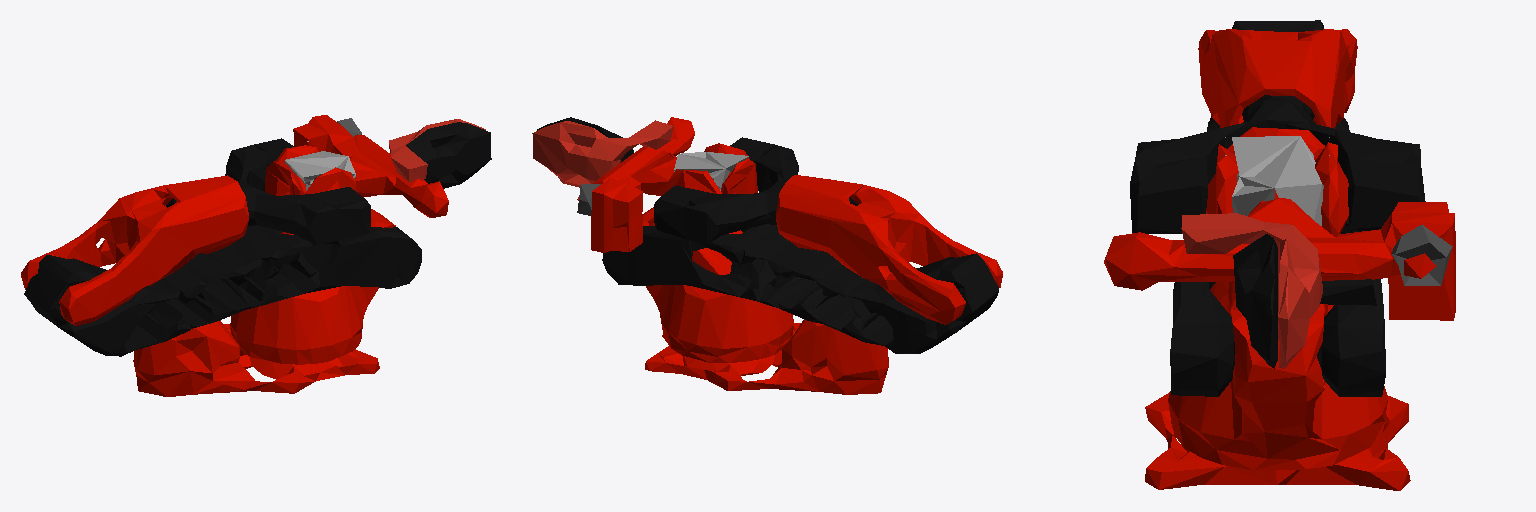
--- Render facts (derived) ---
3 views of the same robot in one strip: view 1: azimuth 30°, elevation 25°; view 2: azimuth 150°, elevation 25°; view 3: azimuth 270°, elevation 25° (orthographic).
Robot: arm — 14 links, 13 joints (6 revolute, 4 continuous, 2 prismatic, 1 fixed); root link world; default pose: all joints at 0.
Links seen in each view (by area): view 1: link2, link3, base_link, link1, link4, link8, link10, link9, link7, link5; view 2: link2, link3, base_link, link1, link8, link4, link9, link7, link6; view 3: link1, link8, link4, link2, link3, base_link, link9, link7, link10, link6, link12, link5.
Link boxes in pixels (x1,y1,x2,y2): link2: (24,225,421,356); link3: (21,175,248,325); base_link: (133,320,379,396); link1: (230,209,395,364); link4: (166,138,370,244); link8: (265,115,448,217); link10: (407,122,491,188); link9: (389,119,485,182); link7: (285,141,355,190); link5: (304,167,358,194); link2: (602,224,998,353); link3: (776,175,1002,324); base_link: (645,319,888,394); link1: (642,207,793,362); link8: (577,117,757,252); link4: (654,137,858,244); link9: (532,120,673,187); link7: (674,152,748,190); link6: (666,169,721,193); link1: (1168,281,1387,470); link8: (1104,127,1455,320); link4: (1130,95,1425,233); link2: (1170,20,1385,396); link3: (1198,29,1357,128); base_link: (1145,283,1410,490); link9: (1181,213,1322,368); link7: (1225,136,1329,225); link10: (1233,234,1376,368); link6: (1315,142,1348,236); link12: (1391,225,1452,285); link5: (1206,144,1238,213).
Size in the robot's own frame: 0.2972 by 0.1221 by 0.1235 metres.
Meshes: 13 distinct files referenced, 13 mesh visuals loaded (13 binary STL).

robot.urdf — arm:
<?xml version="1.0" ?>
<robot name="arm" >

    <material name="silver_default">
        <color rgba="0.700 0.700 0.700 1.000"/>
    </material>
    <material name="opaque210200">
        <color rgba="0.8235294117647058 0.0784313725490196 0.0 1.0"/>
    </material>
    <material name="opaque252525">
        <color rgba="0.09803921568627451 0.09803921568627451 0.09803921568627451 1.0"/>
    </material>
    <material name="opaque160160160">
        <color rgba="0.6274509803921569 0.6274509803921569 0.6274509803921569 1.0"/>
    </material>
    <material name="opaque1965339">
        <color rgba="0.7686274509803922 0.20784313725490197 0.15294117647058825 1.0"/>
    </material>
    <material name="opaque898989">
        <color rgba="0.34901960784313724 0.34901960784313724 0.34901960784313724 1.0"/>
    </material>

<link name="base_link">
  <inertial>
    <origin xyz="-0.035332029911054406 -0.0001151713095156251 0.01677047618232762" rpy="0 0 0"/>
    <mass value="1.0722770152321714"/>
    <inertia ixx="0.000458" iyy="0.001782" izz="0.001902" ixy="-4e-06" iyz="-2e-06" ixz="0.000177"/>
  </inertial>
  <visual>
    <origin xyz="0 0 0" rpy="0 0 0"/>
    <geometry>
      <mesh filename="package://arm_description/meshes/STL/VDB/base_link.stl" scale="0.001 0.001 0.001"/>
    </geometry>
    <material name="opaque210200"/>
  </visual>
  <collision>
    <origin xyz="0 0 0" rpy="0 0 0"/>
    <geometry>
      <mesh filename="package://arm_description/meshes/STL/VDB/base_link.stl" scale="0.001 0.001 0.001"/>
    </geometry>
  </collision>
</link>

<link name="link11">
  <inertial>
    <origin xyz="6.245004513516506e-16 4.29525355211143e-07 0.008489399860949962" rpy="0 0 0"/>
    <mass value="0.03750981375662675"/>
    <inertia ixx="2e-06" iyy="2e-06" izz="2e-06" ixy="-0.0" iyz="-0.0" ixz="0.0"/>
  </inertial>
  <visual>
    <origin xyz="0.069 -0.0 -0.006" rpy="0 0 0"/>
    <geometry>
      <mesh filename="package://arm_description/meshes/STL/VDB/link11.stl" scale="0.001 0.001 0.001"/>
    </geometry>
    <material name="opaque160160160"/>
  </visual>
  <collision>
    <origin xyz="0.069 -0.0 -0.006" rpy="0 0 0"/>
    <geometry>
      <mesh filename="package://arm_description/meshes/STL/VDB/link11.stl" scale="0.001 0.001 0.001"/>
    </geometry>
  </collision>
</link>

<link name="link1">
  <inertial>
    <origin xyz="0.011206111393191323 -0.00011244258381883525 0.0356863108174146" rpy="0 0 0"/>
    <mass value="1.2482750398529938"/>
    <inertia ixx="0.000783" iyy="0.001096" izz="0.000998" ixy="3e-06" iyz="3e-06" ixz="-0.000187"/>
  </inertial>
  <visual>
    <origin xyz="0.0 0.0 -0.0105" rpy="0 0 0"/>
    <geometry>
      <mesh filename="package://arm_description/meshes/STL/VDB/link1.stl" scale="0.001 0.001 0.001"/>
    </geometry>
    <material name="opaque210200"/>
  </visual>
  <collision>
    <origin xyz="0.0 0.0 -0.0105" rpy="0 0 0"/>
    <geometry>
      <mesh filename="package://arm_description/meshes/STL/VDB/link1.stl" scale="0.001 0.001 0.001"/>
    </geometry>
  </collision>
</link>

<link name="link2">
  <inertial>
    <origin xyz="-0.10533457699711699 0.01592298495871186 0.0025359722344356073" rpy="0 0 0"/>
    <mass value="1.5172780004261823"/>
    <inertia ixx="0.000757" iyy="0.00883" izz="0.009159" ixy="6.7e-05" iyz="2e-06" ixz="-4e-05"/>
  </inertial>
  <visual>
    <origin xyz="-0.045 0.017 -0.062" rpy="0 0 0"/>
    <geometry>
      <mesh filename="package://arm_description/meshes/STL/VDB/link2.stl" scale="0.001 0.001 0.001"/>
    </geometry>
    <material name="opaque252525"/>
  </visual>
  <collision>
    <origin xyz="-0.045 0.017 -0.062" rpy="0 0 0"/>
    <geometry>
      <mesh filename="package://arm_description/meshes/STL/VDB/link2.stl" scale="0.001 0.001 0.001"/>
    </geometry>
  </collision>
</link>

<link name="link3">
  <inertial>
    <origin xyz="0.05688940039684258 0.016684826028364724 0.017232609352887562" rpy="0 0 0"/>
    <mass value="0.6382129609796608"/>
    <inertia ixx="0.000266" iyy="0.000647" izz="0.000695" ixy="-6e-06" iyz="-2e-06" ixz="-0.000136"/>
  </inertial>
  <visual>
    <origin xyz="0.155 0.017 -0.077" rpy="0 0 0"/>
    <geometry>
      <mesh filename="package://arm_description/meshes/STL/VDB/link3.stl" scale="0.001 0.001 0.001"/>
    </geometry>
    <material name="opaque210200"/>
  </visual>
  <collision>
    <origin xyz="0.155 0.017 -0.077" rpy="0 0 0"/>
    <geometry>
      <mesh filename="package://arm_description/meshes/STL/VDB/link3.stl" scale="0.001 0.001 0.001"/>
    </geometry>
  </collision>
</link>

<link name="link4">
  <inertial>
    <origin xyz="0.02539855845508478 -2.4088588287602283e-07 2.4485807587071307e-07" rpy="0 0 0"/>
    <mass value="0.556203439123278"/>
    <inertia ixx="0.000498" iyy="0.000461" izz="0.00092" ixy="-0.0" iyz="0.0" ixz="-0.0"/>
  </inertial>
  <visual>
    <origin xyz="0.0461 0.0 -0.103" rpy="0 0 0"/>
    <geometry>
      <mesh filename="package://arm_description/meshes/STL/VDB/link4.stl" scale="0.001 0.001 0.001"/>
    </geometry>
    <material name="opaque252525"/>
  </visual>
  <collision>
    <origin xyz="0.0461 0.0 -0.103" rpy="0 0 0"/>
    <geometry>
      <mesh filename="package://arm_description/meshes/STL/VDB/link4.stl" scale="0.001 0.001 0.001"/>
    </geometry>
  </collision>
</link>

<link name="link5">
  <inertial>
    <origin xyz="2.753202211509126e-07 0.005524662132598862 -1.7395752630045003e-08" rpy="0 0 0"/>
    <mass value="0.048347571885136914"/>
    <inertia ixx="4e-06" iyy="8e-06" izz="4e-06" ixy="0.0" iyz="0.0" ixz="-0.0"/>
  </inertial>
  <visual>
    <origin xyz="-0.0108 0.024 -0.103" rpy="0 0 0"/>
    <geometry>
      <mesh filename="package://arm_description/meshes/STL/VDB/link5.stl" scale="0.001 0.001 0.001"/>
    </geometry>
    <material name="opaque210200"/>
  </visual>
  <collision>
    <origin xyz="-0.0108 0.024 -0.103" rpy="0 0 0"/>
    <geometry>
      <mesh filename="package://arm_description/meshes/STL/VDB/link5.stl" scale="0.001 0.001 0.001"/>
    </geometry>
  </collision>
</link>

<link name="link6">
  <inertial>
    <origin xyz="2.7532022249358856e-07 -0.0055246621326002915 -1.7395751616966493e-08" rpy="0 0 0"/>
    <mass value="0.04834757188513691"/>
    <inertia ixx="4e-06" iyy="8e-06" izz="4e-06" ixy="-0.0" iyz="-0.0" ixz="-0.0"/>
  </inertial>
  <visual>
    <origin xyz="-0.0108 -0.024 -0.103" rpy="0 0 0"/>
    <geometry>
      <mesh filename="package://arm_description/meshes/STL/VDB/link6.stl" scale="0.001 0.001 0.001"/>
    </geometry>
    <material name="opaque210200"/>
  </visual>
  <collision>
    <origin xyz="-0.0108 -0.024 -0.103" rpy="0 0 0"/>
    <geometry>
      <mesh filename="package://arm_description/meshes/STL/VDB/link6.stl" scale="0.001 0.001 0.001"/>
    </geometry>
  </collision>
</link>

<link name="link7">
  <inertial>
    <origin xyz="0.0028448480020698153 -0.02399986356623937 -2.0958257078984577e-06" rpy="0 0 0"/>
    <mass value="0.15678652750508332"/>
    <inertia ixx="3.8e-05" iyy="3.9e-05" izz="3.5e-05" ixy="-0.0" iyz="0.0" ixz="-0.0"/>
  </inertial>
  <visual>
    <origin xyz="-0.0108 -0.024 -0.103" rpy="0 0 0"/>
    <geometry>
      <mesh filename="package://arm_description/meshes/STL/VDB/link7.stl" scale="0.001 0.001 0.001"/>
    </geometry>
    <material name="opaque160160160"/>
  </visual>
  <collision>
    <origin xyz="-0.0108 -0.024 -0.103" rpy="0 0 0"/>
    <geometry>
      <mesh filename="package://arm_description/meshes/STL/VDB/link7.stl" scale="0.001 0.001 0.001"/>
    </geometry>
  </collision>
</link>

<link name="link8">
  <inertial>
    <origin xyz="0.006337791282976783 0.014437861844293989 -0.002533555574269944" rpy="0 0 0"/>
    <mass value="0.41604327739339353"/>
    <inertia ixx="0.000417" iyy="0.000227" izz="0.000586" ixy="-1.7e-05" iyz="3.7e-05" ixz="6e-06"/>
  </inertial>
  <visual>
    <origin xyz="-0.0328 0.0 -0.103" rpy="0 0 0"/>
    <geometry>
      <mesh filename="package://arm_description/meshes/STL/VDB/link8.stl" scale="0.001 0.001 0.001"/>
    </geometry>
    <material name="opaque210200"/>
  </visual>
  <collision>
    <origin xyz="-0.0328 0.0 -0.103" rpy="0 0 0"/>
    <geometry>
      <mesh filename="package://arm_description/meshes/STL/VDB/link8.stl" scale="0.001 0.001 0.001"/>
    </geometry>
  </collision>
</link>

<link name="link12">
  <inertial>
    <origin xyz="-0.0070040483790297925 -8.487575241938883e-08 -8.071878474513738e-07" rpy="0 0 0"/>
    <mass value="0.019850481866978086"/>
    <inertia ixx="1e-06" iyy="1e-06" izz="1e-06" ixy="-0.0" iyz="0.0" ixz="-0.0"/>
  </inertial>
  <visual>
    <origin xyz="-0.0664 -0.05 -0.103" rpy="0 0 0"/>
    <geometry>
      <mesh filename="package://arm_description/meshes/STL/VDB/link12.stl" scale="0.001 0.001 0.001"/>
    </geometry>
    <material name="opaque898989"/>
  </visual>
  <collision>
    <origin xyz="-0.0664 -0.05 -0.103" rpy="0 0 0"/>
    <geometry>
      <mesh filename="package://arm_description/meshes/STL/VDB/link12.stl" scale="0.001 0.001 0.001"/>
    </geometry>
  </collision>
</link>

<link name="link10">
  <inertial>
    <origin xyz="0.02573313617415028 -0.03390025109466069 0.0052187897794312155" rpy="0 0 0"/>
    <mass value="0.1633987484930479"/>
    <inertia ixx="3.2e-05" iyy="7.7e-05" izz="7.6e-05" ixy="1.2e-05" iyz="5e-06" ixz="-8e-06"/>
  </inertial>
  <visual>
    <origin xyz="-0.0641 -0.0325 -0.0959" rpy="0 0 0"/>
    <geometry>
      <mesh filename="package://arm_description/meshes/STL/VDB/link10.stl" scale="0.001 0.001 0.001"/>
    </geometry>
    <material name="opaque252525"/>
  </visual>
  <collision>
    <origin xyz="-0.0641 -0.0325 -0.0959" rpy="0 0 0"/>
    <geometry>
      <mesh filename="package://arm_description/meshes/STL/VDB/link10.stl" scale="0.001 0.001 0.001"/>
    </geometry>
  </collision>
</link>

<link name="link9">
  <inertial>
    <origin xyz="0.0257331361554268 0.033900251075823624 -0.005218789736564436" rpy="0 0 0"/>
    <mass value="0.16339874859628656"/>
    <inertia ixx="3.2e-05" iyy="7.7e-05" izz="7.6e-05" ixy="-1.2e-05" iyz="5e-06" ixz="8e-06"/>
  </inertial>
  <visual>
    <origin xyz="-0.0641 0.0325 -0.1101" rpy="0 0 0"/>
    <geometry>
      <mesh filename="package://arm_description/meshes/STL/VDB/link9.stl" scale="0.001 0.001 0.001"/>
    </geometry>
    <material name="opaque1965339"/>
  </visual>
  <collision>
    <origin xyz="-0.0641 0.0325 -0.1101" rpy="0 0 0"/>
    <geometry>
      <mesh filename="package://arm_description/meshes/STL/VDB/link9.stl" scale="0.001 0.001 0.001"/>
    </geometry>
  </collision>
</link>

<!-- Attach base_link to world -->
<link name="world"/>

<joint name="world_to_base_link" type="fixed">
     <parent link="world"/>
     <child link="base_link"/>
</joint>

<joint name="base_link-link11" type="continuous">
  <origin xyz="-0.069 0.0 0.006" rpy="0 0 0"/>
  <parent link="base_link"/>
  <child link="link11"/>
  <axis xyz="0.0 0.0 1.0"/>
  <dynamics damping="0.5" friction="1.0"/>
</joint>

<joint name="base_link-link1" type="revolute">
  <origin xyz="0.0 0.0 0.0105" rpy="0 0 0"/>
  <parent link="base_link"/>
  <child link="link1"/>
  <axis xyz="0.0 0.0 1.0"/>
  <limit upper="3.141593" lower="-3.141593" effort="100" velocity="100"/>
  <dynamics damping="0.5" friction="1.0"/>

</joint>
  <!--
    EXAMPLE FROM https://github.com/PickNikRobotics/stretch_ros/blob/stretch_xacro_ign/stretch_description/urdf/stretch_main.xacro
    <limit effort="100" lower="-1.75" upper="4.0" velocity="1.0"/>
    <dynamics damping="${joint_damping}" friction="${joint_friction}" spring_reference="${joint_spring_reference}" spring_stiffness="{joint_spring_stiffness}"/>
  -->


<joint name="link1-link2" type="revolute">
  <origin xyz="0.045 -0.017 0.0515" rpy="0 0 0"/>
  <parent link="link1"/>
  <child link="link2"/>
  <axis xyz="0.0 1.0 0.0"/>
  <limit upper="4.101524" lower="-4.101524" effort="100" velocity="100"/>
<!--  <limit upper="4.101524" lower="0.0" effort="100" velocity="100"/>-->
  <dynamics damping="0.5" friction="1.0"/>
</joint>

<joint name="link2-link3" type="revolute">
  <origin xyz="-0.2 0.0 0.015" rpy="0 0 0"/>
  <parent link="link2"/>
  <child link="link3"/>
  <axis xyz="0.0 1.0 0.0"/>
  <limit upper="2.792527" lower="-2.792527" effort="100" velocity="100"/>
<!--  <limit upper="0.0" lower="-2.792527" effort="100" velocity="100"/>-->
  <dynamics damping="0.5" friction="1.0"/>
</joint>

<joint name="link3-link4" type="revolute">
  <origin xyz="0.1089 0.017 0.026" rpy="0 0 0"/>
  <parent link="link3"/>
  <child link="link4"/>
  <axis xyz="1.0 0.0 0.0"/>
  <limit upper="3.141593" lower="-3.141593" effort="100" velocity="100"/>
  <dynamics damping="2.5" friction="5.0"/>
</joint>

<joint name="link4-link5" type="continuous">
  <origin xyz="0.0569 -0.024 0.0" rpy="0 0 0"/>
  <parent link="link4"/>
  <child link="link5"/>
  <axis xyz="0.0 1.0 0.0"/>
  <dynamics damping="5.0" friction="10.0"/>
</joint>

<joint name="link4-link6" type="continuous">
  <origin xyz="0.0569 0.024 0.0" rpy="0 0 0"/>
  <parent link="link4"/>
  <child link="link6"/>
  <axis xyz="0.0 1.0 0.0"/>
  <dynamics damping="5.0" friction="10.0"/>
</joint>

<joint name="link4-link7" type="revolute">
  <origin xyz="0.0569 0.024 0.0" rpy="0 0 0"/>
  <parent link="link4"/>
  <child link="link7"/>
  <axis xyz="0.0 1.0 0.0"/>
  <limit upper="1.745329" lower="-1.745329" effort="100" velocity="100"/>
  <dynamics damping="5.0" friction="10.0"/>
</joint>

<joint name="link7-link8" type="revolute">
  <origin xyz="0.022 -0.024 0.0" rpy="0 0 0"/>
  <parent link="link7"/>
  <child link="link8"/>
  <axis xyz="1.0 0.0 0.0"/>
  <limit upper="3.141593" lower="-3.141593" effort="100" velocity="100"/>
  <dynamics damping="5.0" friction="10.0"/>
</joint>

<joint name="link8-link12" type="continuous">
  <origin xyz="0.0336 0.05 0.0" rpy="0 0 0"/>
  <parent link="link8"/>
  <child link="link12"/>
  <axis xyz="1.0 0.0 0.0"/>
  <dynamics damping="1.0" friction="2.0"/>
</joint>

<joint name="link8-link10" type="prismatic">
  <origin xyz="0.0313 0.0325 -0.0071" rpy="0 0 0"/>
  <parent link="link8"/>
  <child link="link10"/>
  <axis xyz="0.0 1.0 0.0"/>
  <limit upper="0.0" lower="-0.051" effort="100" velocity="100"/>
  <dynamics damping="1.0" friction="2.0"/>
</joint>

<joint name="link8-link9" type="prismatic">
  <origin xyz="0.0313 -0.0325 0.0071" rpy="0 0 0"/>
  <parent link="link8"/>
  <child link="link9"/>
  <axis xyz="0.0 1.0 0.0"/>
  <limit upper="0.051" lower="0.0" effort="100" velocity="100"/>
<!--  <dynamics damping="1.0" friction="2.0"/>-->
</joint>



  <ros2_control name="arm_controller" type="system">
  <hardware>
    <plugin>ign_ros2_control/IgnitionSystem</plugin>
  </hardware>

<joint name="link1-link2">
  <command_interface name="position"/>
    <state_interface name="position">
    <param name="initial_value">0</param>
    </state_interface>
    <state_interface name="velocity"/>
</joint>

<joint name="base_link-link1">
  <command_interface name="position"/>
    <state_interface name="position">
    <param name="initial_value">0</param>
    </state_interface>
    <state_interface name="velocity"/>
</joint>

<joint name="link2-link3">
  <command_interface name="position"/>
    <state_interface name="position">
    <param name="initial_value">0</param>
    </state_interface>
    <state_interface name="velocity"/>
</joint>
<joint name="link8-link9">
    <param name="initial_position">0.0</param>
    <command_interface name="position" />
    <state_interface name="position"/>
    <state_interface name="velocity"/>
</joint>
<joint name="link8-link10">
    <param name="mimic">link8-link9</param>
    <param name="multiplier">-1</param>
    <command_interface name="position" />
    <state_interface name="position"/>
    <state_interface name="velocity"/>
</joint>
</ros2_control>

  <gazebo>
    <plugin filename="libignition-gazebo-joint-state-publisher-system.so" name="ignition::gazebo::systems::JointStatePublisher"/>


        <plugin filename="ign_ros2_control-system" name="ign_ros2_control::IgnitionROS2ControlPlugin">
            <robot_sim_type>ign_ros2_control/IgnitionSystem</robot_sim_type>
            <parameters>[local-path]/src/stella_arm_controllers/config/controller_configuration_gripper.yaml</parameters>            
        </plugin>
    




<!--  &lt;!&ndash;    TRAJECTORY CONTROL&ndash;&gt;-->
<!--  <plugin filename="libignition-gazebo-joint-trajectory-controller-system.so" name="ignition::gazebo::systems::JointTrajectoryController">-->
<!--      <topic>/arm_joint_trajectory_controller/joint_trajectory</topic>-->

<!--      <joint_name>base_link-link1</joint_name>-->
<!--      <initial_position>0</initial_position>-->
<!--      <position_p_gain>100</position_p_gain>-->
<!--      <position_d_gain>10</position_d_gain>-->
<!--      <position_i_gain>1</position_i_gain>-->
<!--      <position_i_min>-1</position_i_min>-->
<!--      <position_i_max>1</position_i_max>-->
<!--      <position_cmd_min>-50</position_cmd_min>-->
<!--      <position_cmd_max>50</position_cmd_max>-->

<!--      <joint_name>link1-link2</joint_name>-->
<!--      <initial_position>0</initial_position>-->
<!--      <position_p_gain>100</position_p_gain>-->
<!--      <position_d_gain>10</position_d_gain>-->
<!--      <position_i_gain>1</position_i_gain>-->
<!--      <position_i_min>-1</position_i_min>-->
<!--      <position_i_max>1</position_i_max>-->
<!--      <position_cmd_min>-50</position_cmd_min>-->
<!--      <position_cmd_max>50</position_cmd_max>-->

<!--      <joint_name>link2-link3</joint_name>-->
<!--      <initial_position>0</initial_position>-->
<!--      <position_p_gain>100</position_p_gain>-->
<!--      <position_d_gain>10</position_d_gain>-->
<!--      <position_i_gain>1</position_i_gain>-->
<!--      <position_i_min>-1</position_i_min>-->
<!--      <position_i_max>1</position_i_max>-->
<!--      <position_cmd_min>-50</position_cmd_min>-->
<!--      <position_cmd_max>50</position_cmd_max>-->

<!--  </plugin>-->





<!--  POSITION CONTROL-->
<!--    <plugin filename="ignition-gazebo-joint-position-controller-system" name="ignition::gazebo::systems::JointPositionController">-->
<!--      <joint_name>base_link-link1</joint_name>-->
<!--      <topic>control_base_link_link1</topic>-->
<!--      <p_gain>100</p_gain>-->
<!--      <d_gain>10</d_gain>-->
<!--      <i_gain>1</i_gain>-->
<!--      <i_min>-1</i_min>-->
<!--      <i_max>1</i_max>-->
<!--      <cmd_min>-50</cmd_min>-->
<!--      <cmd_max>50</cmd_max>-->
<!--    </plugin>-->

<!--        <plugin filename="ignition-gazebo-joint-position-controller-system" name="ignition::gazebo::systems::JointPositionController">-->
<!--      <joint_name>link1-link2</joint_name>-->
<!--      <topic>control_link1_link2</topic>-->
<!--      <p_gain>100</p_gain>-->
<!--      <d_gain>10</d_gain>-->
<!--      <i_gain>1</i_gain>-->
<!--      <i_min>-1</i_min>-->
<!--      <i_max>1</i_max>-->
<!--      <cmd_min>-50</cmd_min>-->
<!--      <cmd_max>50</cmd_max>-->
<!--    </plugin>-->

<!--        <plugin filename="ignition-gazebo-joint-position-controller-system" name="ignition::gazebo::systems::JointPositionController">-->
<!--      <joint_name>link2-link3</joint_name>-->
<!--      <topic>control_link2_link3</topic>-->
<!--      <p_gain>100</p_gain>-->
<!--      <d_gain>10</d_gain>-->
<!--      <i_gain>1</i_gain>-->
<!--      <i_min>-1</i_min>-->
<!--      <i_max>1</i_max>-->
<!--      <cmd_min>-50</cmd_min>-->
<!--      <cmd_max>50</cmd_max>-->
<!--    </plugin>-->

<!--        <plugin filename="ignition-gazebo-joint-position-controller-system" name="ignition::gazebo::systems::JointPositionController">-->
<!--      <joint_name>link3-link4</joint_name>-->
<!--      <topic>control_link3_link4</topic>-->
<!--      <p_gain>50</p_gain>-->
<!--      <d_gain>4</d_gain>-->
<!--      <i_gain>3</i_gain>-->
<!--      <i_min>-15</i_min>-->
<!--      <i_max>15</i_max>-->
<!--      <cmd_min>-50</cmd_min>-->
<!--      <cmd_max>50</cmd_max>-->
<!--    </plugin>-->

<!--&lt;!&ndash;        <plugin filename="ignition-gazebo-joint-position-controller-system" name="ignition::gazebo::systems::JointPositionController">&ndash;&gt;-->
<!--&lt;!&ndash;      <joint_name>link4-link5</joint_name>&ndash;&gt;-->
<!--&lt;!&ndash;      <topic>control_link4_link5</topic>&ndash;&gt;-->
<!--&lt;!&ndash;      <p_gain>100</p_gain>&ndash;&gt;-->
<!--&lt;!&ndash;      <d_gain>10</d_gain>&ndash;&gt;-->
<!--&lt;!&ndash;      <i_gain>0</i_gain>&ndash;&gt;-->
<!--&lt;!&ndash;      <i_min>-1</i_min>&ndash;&gt;-->
<!--&lt;!&ndash;      <i_max>1</i_max>&ndash;&gt;-->
<!--&lt;!&ndash;      <cmd_min>-50</cmd_min>&ndash;&gt;-->
<!--&lt;!&ndash;      <cmd_max>50</cmd_max>&ndash;&gt;-->
<!--&lt;!&ndash;    </plugin>&ndash;&gt;-->

<!--&lt;!&ndash;        <plugin filename="ignition-gazebo-joint-position-controller-system" name="ignition::gazebo::systems::JointPositionController">&ndash;&gt;-->
<!--&lt;!&ndash;      <joint_name>link4-link6</joint_name>&ndash;&gt;-->
<!--&lt;!&ndash;      <topic>control_link4_link6</topic>&ndash;&gt;-->
<!--&lt;!&ndash;      <p_gain>100</p_gain>&ndash;&gt;-->
<!--&lt;!&ndash;      <d_gain>10</d_gain>&ndash;&gt;-->
<!--&lt;!&ndash;      <i_gain>0</i_gain>&ndash;&gt;-->
<!--&lt;!&ndash;      <i_min>-1</i_min>&ndash;&gt;-->
<!--&lt;!&ndash;      <i_max>1</i_max>&ndash;&gt;-->
<!--&lt;!&ndash;      <cmd_min>-50</cmd_min>&ndash;&gt;-->
<!--&lt;!&ndash;      <cmd_max>50</cmd_max>&ndash;&gt;-->
<!--&lt;!&ndash;    </plugin>&ndash;&gt;-->

<!--            <plugin filename="ignition-gazebo-joint-position-controller-system" name="ignition::gazebo::systems::JointPositionController">-->
<!--      <joint_name>link4-link7</joint_name>-->
<!--      <topic>control_link4_link7</topic>-->
<!--      <p_gain>100</p_gain>-->
<!--      <d_gain>8</d_gain>-->
<!--      <i_gain>1</i_gain>-->
<!--      <i_min>-5</i_min>-->
<!--      <i_max>5</i_max>-->
<!--      <cmd_min>-50</cmd_min>-->
<!--      <cmd_max>50</cmd_max>-->
<!--    </plugin>-->

<!--&lt;!&ndash;    <plugin filename="ignition-gazebo-joint-position-controller-system" name="ignition::gazebo::systems::JointPositionController">&ndash;&gt;-->
<!--&lt;!&ndash;      <joint_name>link7-link8</joint_name>&ndash;&gt;-->
<!--&lt;!&ndash;      <topic>control_link7_link8</topic>&ndash;&gt;-->
<!--&lt;!&ndash;      <p_gain>100</p_gain>&ndash;&gt;-->
<!--&lt;!&ndash;      <d_gain>10</d_gain>&ndash;&gt;-->
<!--&lt;!&ndash;      <i_gain>0</i_gain>&ndash;&gt;-->
<!--&lt;!&ndash;      <i_min>-1</i_min>&ndash;&gt;-->
<!--&lt;!&ndash;      <i_max>1</i_max>&ndash;&gt;-->
<!--&lt;!&ndash;      <cmd_min>-50</cmd_min>&ndash;&gt;-->
<!--&lt;!&ndash;      <cmd_max>50</cmd_max>&ndash;&gt;-->
<!--&lt;!&ndash;    </plugin>&ndash;&gt;-->

<!--&lt;!&ndash;    <plugin filename="ignition-gazebo-joint-position-controller-system" name="ignition::gazebo::systems::JointPositionController">&ndash;&gt;-->
<!--&lt;!&ndash;      <joint_name>link8-link12</joint_name>&ndash;&gt;-->
<!--&lt;!&ndash;      <topic>control_link8_link12</topic>&ndash;&gt;-->
<!--&lt;!&ndash;      <p_gain>100</p_gain>&ndash;&gt;-->
<!--&lt;!&ndash;      <d_gain>10</d_gain>&ndash;&gt;-->
<!--&lt;!&ndash;      <i_gain>0</i_gain>&ndash;&gt;-->
<!--&lt;!&ndash;      <i_min>-1</i_min>&ndash;&gt;-->
<!--&lt;!&ndash;      <i_max>1</i_max>&ndash;&gt;-->
<!--&lt;!&ndash;      <cmd_min>-50</cmd_min>&ndash;&gt;-->
<!--&lt;!&ndash;      <cmd_max>50</cmd_max>&ndash;&gt;-->
<!--&lt;!&ndash;    </plugin>&ndash;&gt;-->

<!--&lt;!&ndash;    <plugin filename="ignition-gazebo-joint-position-controller-system" name="ignition::gazebo::systems::JointPositionController">&ndash;&gt;-->
<!--&lt;!&ndash;      <joint_name>link8-link10</joint_name>&ndash;&gt;-->
<!--&lt;!&ndash;      <topic>control_link8_link10</topic>&ndash;&gt;-->
<!--&lt;!&ndash;      <p_gain>100</p_gain>&ndash;&gt;-->
<!--&lt;!&ndash;      <d_gain>10</d_gain>&ndash;&gt;-->
<!--&lt;!&ndash;      <i_gain>0</i_gain>&ndash;&gt;-->
<!--&lt;!&ndash;      <i_min>-1</i_min>&ndash;&gt;-->
<!--&lt;!&ndash;      <i_max>1</i_max>&ndash;&gt;-->
<!--&lt;!&ndash;      <cmd_min>-50</cmd_min>&ndash;&gt;-->
<!--&lt;!&ndash;      <cmd_max>50</cmd_max>&ndash;&gt;-->
<!--&lt;!&ndash;    </plugin>&ndash;&gt;-->

<!--    <plugin filename="ignition-gazebo-joint-position-controller-system" name="ignition::gazebo::systems::JointPositionController">-->
<!--      <joint_name>link8-link9</joint_name>-->
<!--      <topic>control_link8_link9</topic>-->
<!--      <p_gain>25</p_gain>-->
<!--      <d_gain>2</d_gain>-->
<!--      <i_gain>1</i_gain>-->
<!--      <i_min>-5</i_min>-->
<!--      <i_max>5</i_max>-->
<!--      <cmd_min>-50</cmd_min>-->
<!--      <cmd_max>50</cmd_max>-->
<!--    </plugin>-->
  </gazebo>

</robot>
